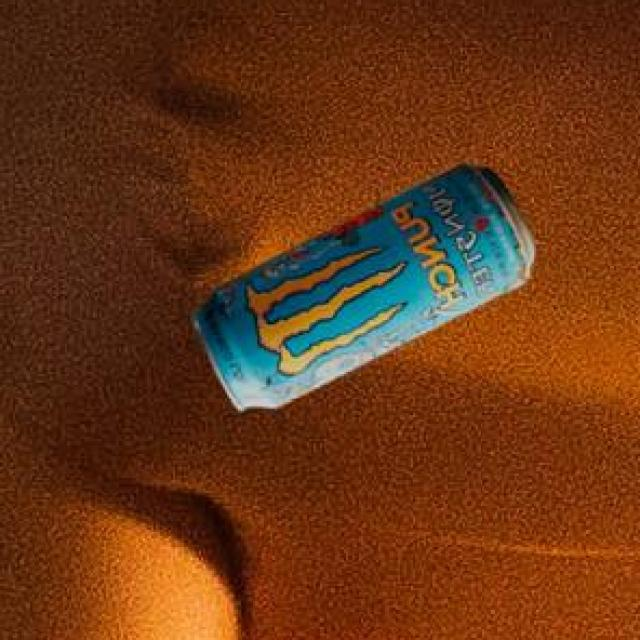logam: (189, 168, 531, 414)
